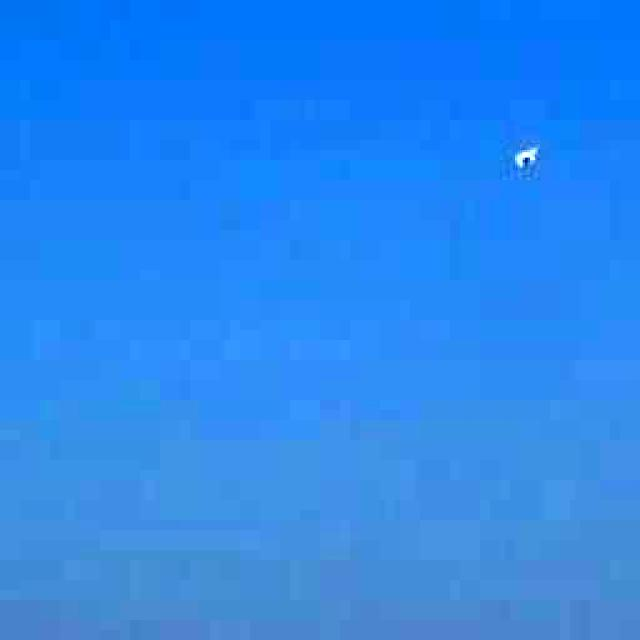bird: (496, 128, 551, 182)
